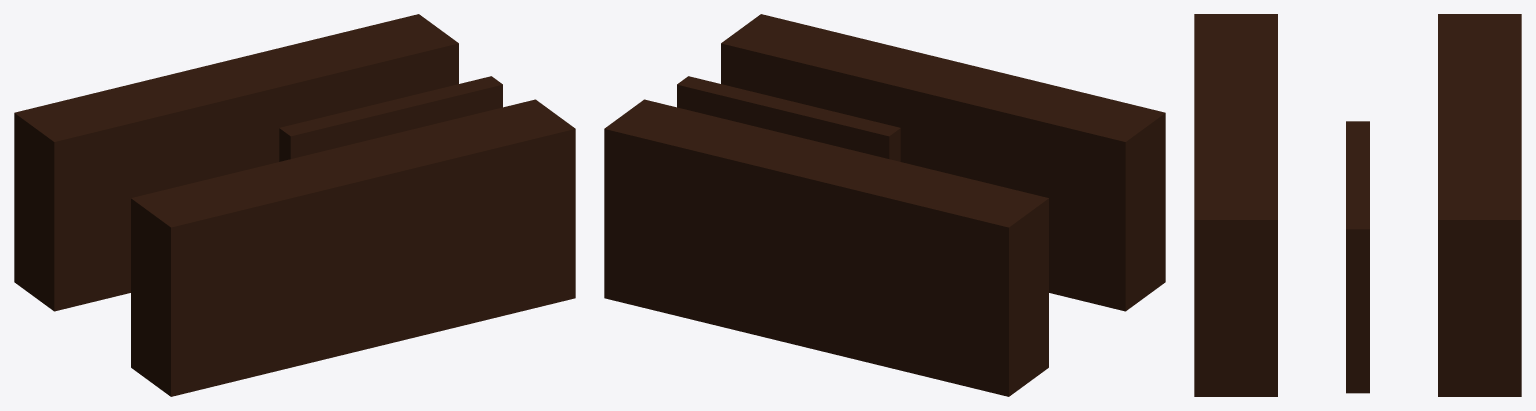
File: IllusionOfChoice.fbx
3 renders of one model, left to right at view 1: azimuth 30°, elevation 25°; view 2: azimuth 150°, elevation 25°; view 3: azimuth 270°, elevation 25°, orthographic. The views are drawn at different scales.
Parts seen in each view (by area): view 1: Illusion; view 2: Illusion; view 3: Illusion.
Part boxes in pixels (bbox=[...]): Illusion: bbox=[14, 14, 575, 396]; Illusion: bbox=[604, 14, 1165, 396]; Illusion: bbox=[1194, 14, 1521, 396].
Size of the model in its own units: 4030 by 1612 by 2705.
